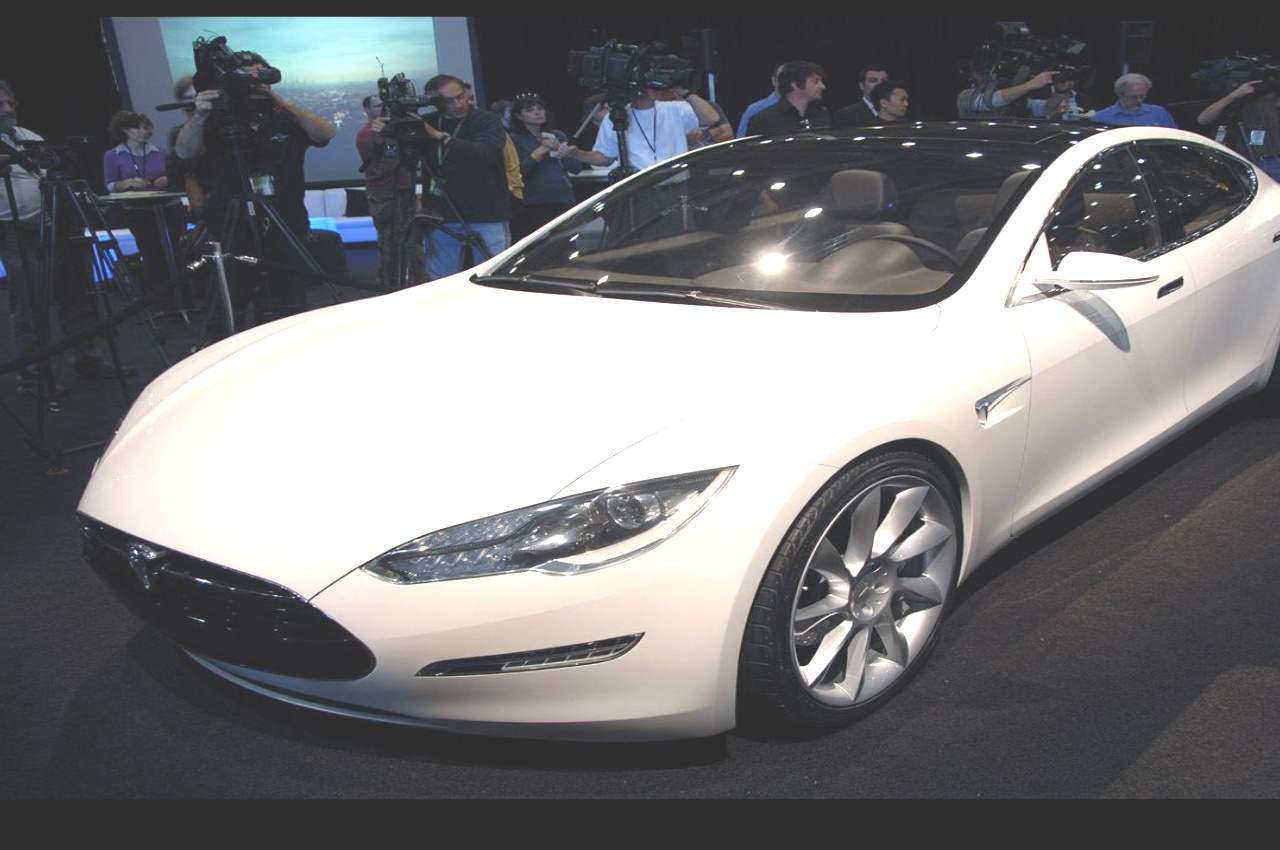car: (28, 104, 1280, 761)
